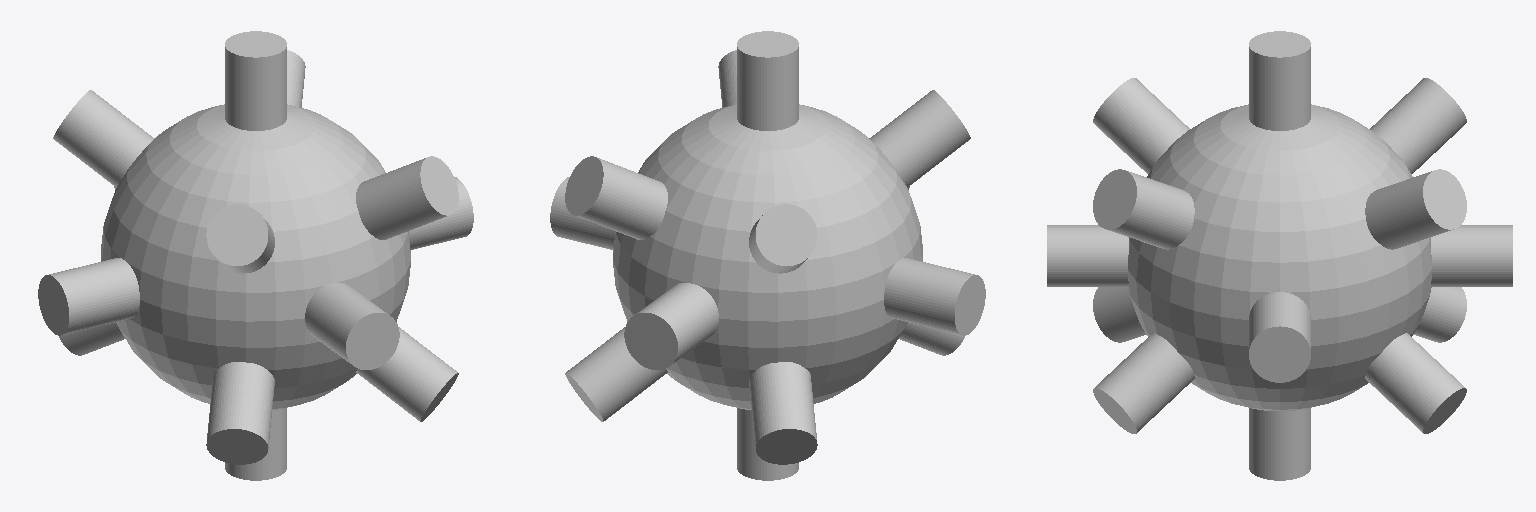
The model's file is Mine.obj.
The picture shows the model from 3 angles: view 1: azimuth 30°, elevation 25°; view 2: azimuth 150°, elevation 25°; view 3: azimuth 270°, elevation 25°; orthographic projection.
Parts seen in each view (by area): view 1: Mine.003; view 2: Mine.003; view 3: Mine.003.
Part boxes in pixels (bbox=[...]): Mine.003: bbox=[38, 31, 473, 480]; Mine.003: bbox=[550, 31, 985, 480]; Mine.003: bbox=[1047, 31, 1512, 480].
Size of the model in its own units: 1.5 by 1.5 by 1.5.